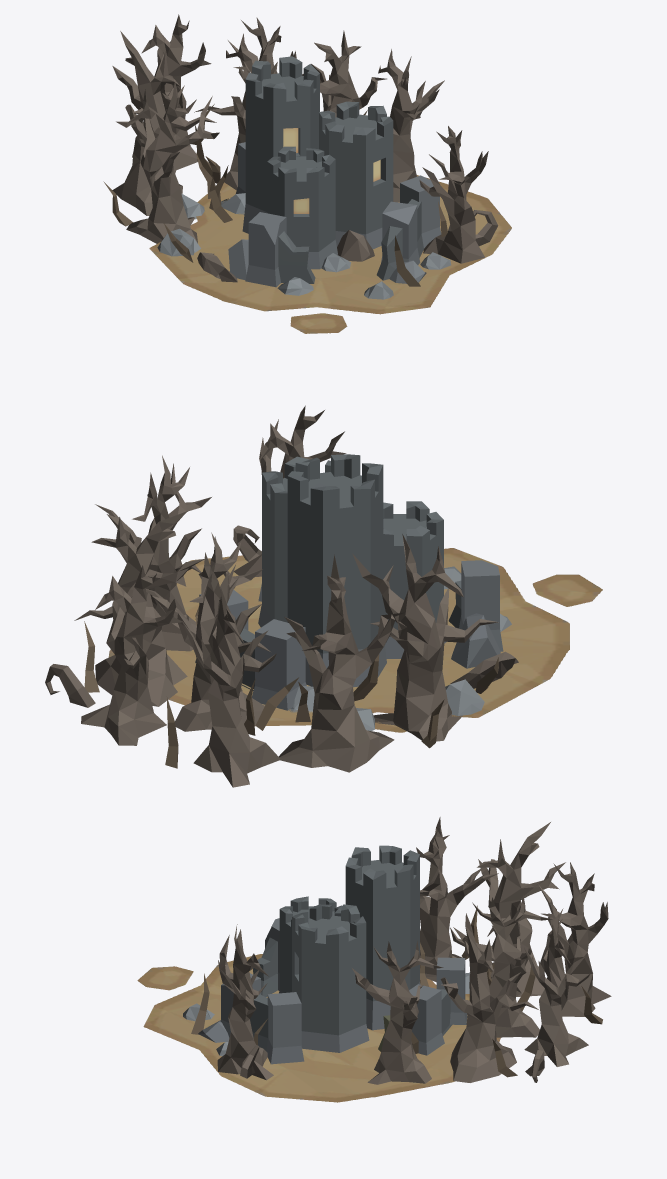
File: townMidnight02.fbx
3 views of the same model, one above another, from view 1: azimuth 30°, elevation 25°; view 2: azimuth 150°, elevation 25°; view 3: azimuth 270°, elevation 25° (orthographic). The views are drawn at different scales.
Parts seen in each view (by area): view 1: townMidnight02, groundDecal; view 2: townMidnight02, groundDecal; view 3: townMidnight02, groundDecal.
Boxes of the visible parts, box(x1,y1,x2,y2) form: townMidnight02: box(103, 14, 498, 299); groundDecal: box(149, 175, 511, 333); townMidnight02: box(45, 405, 518, 787); groundDecal: box(108, 548, 602, 732); townMidnight02: box(183, 817, 611, 1084); groundDecal: box(137, 954, 500, 1102).
Bounding box in the file's own units: 10.33 × 2.84 × 10.07.
